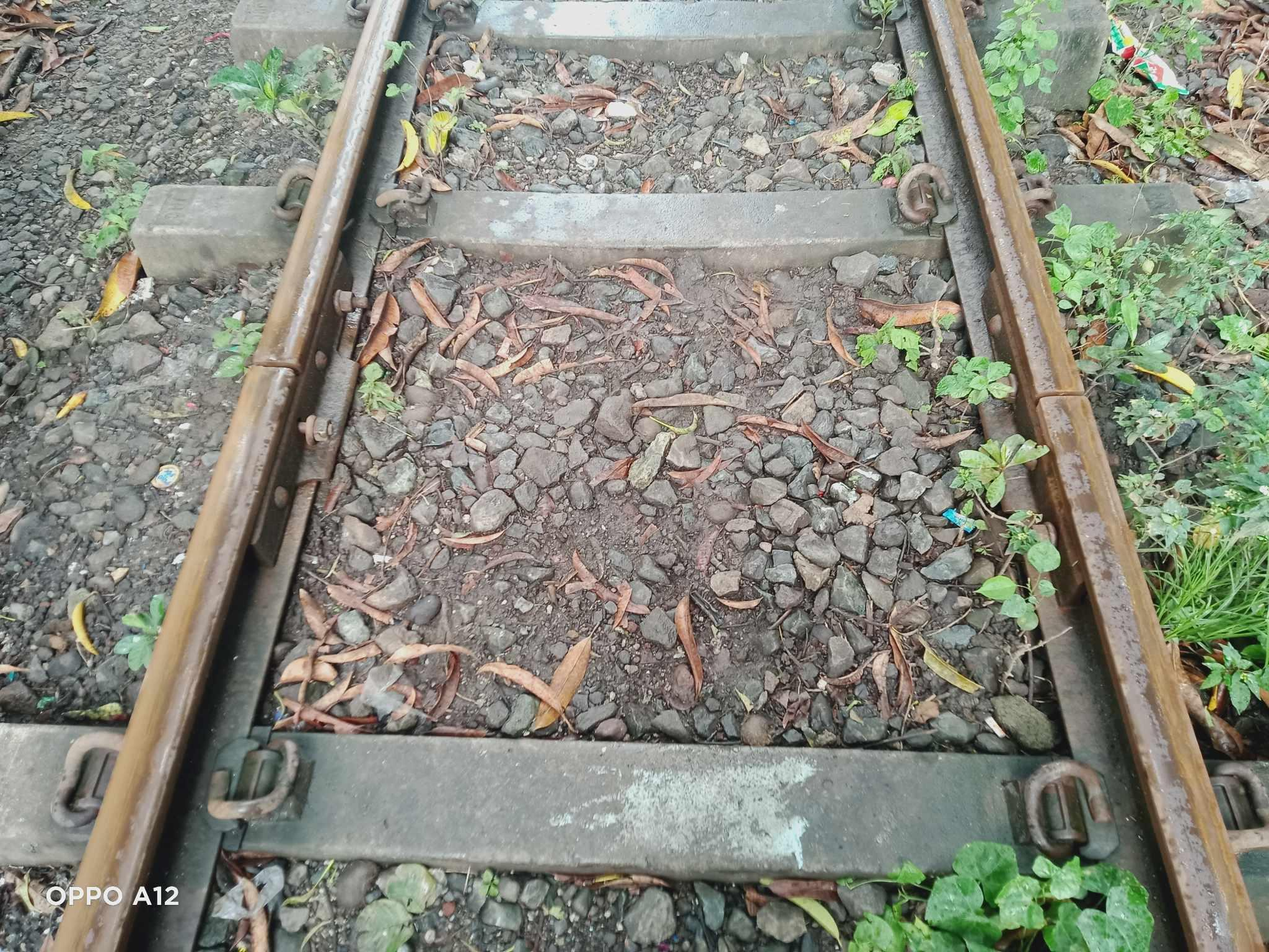railway-gap: (207, 303, 331, 430), (1001, 329, 1117, 458)
